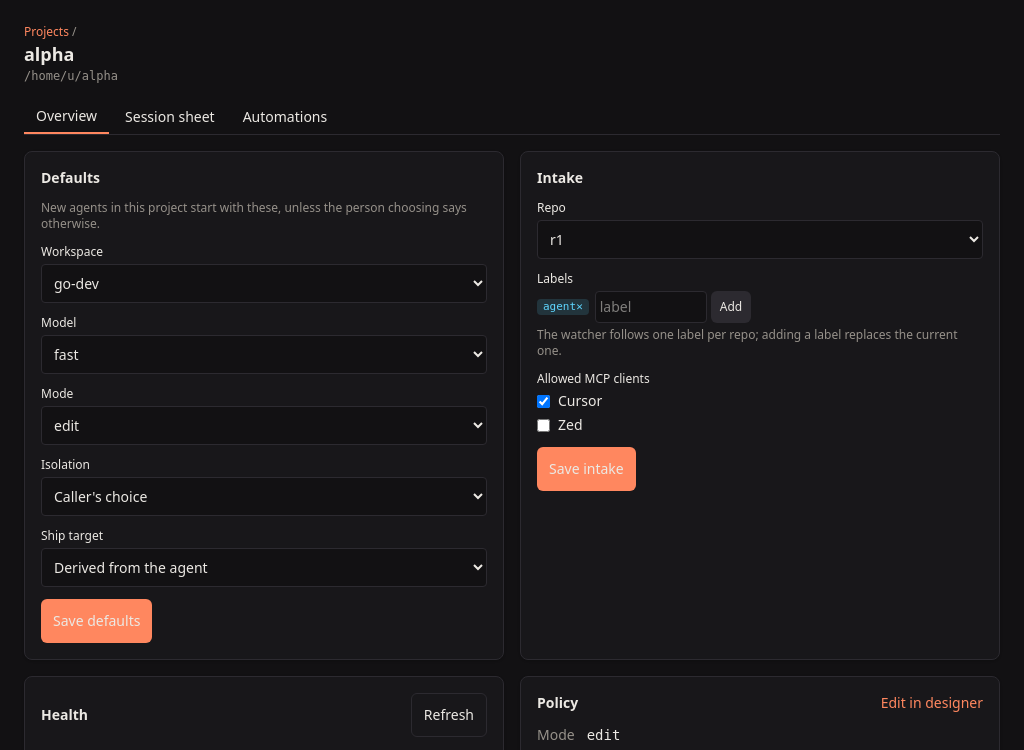
Test: Project overview › saves defaults with the right body, keeping intake and routing overrides
Step 1. Select "ci (repo)" in the dropdown labelled "Workspace" → (264, 284), box [41,264,487,303]
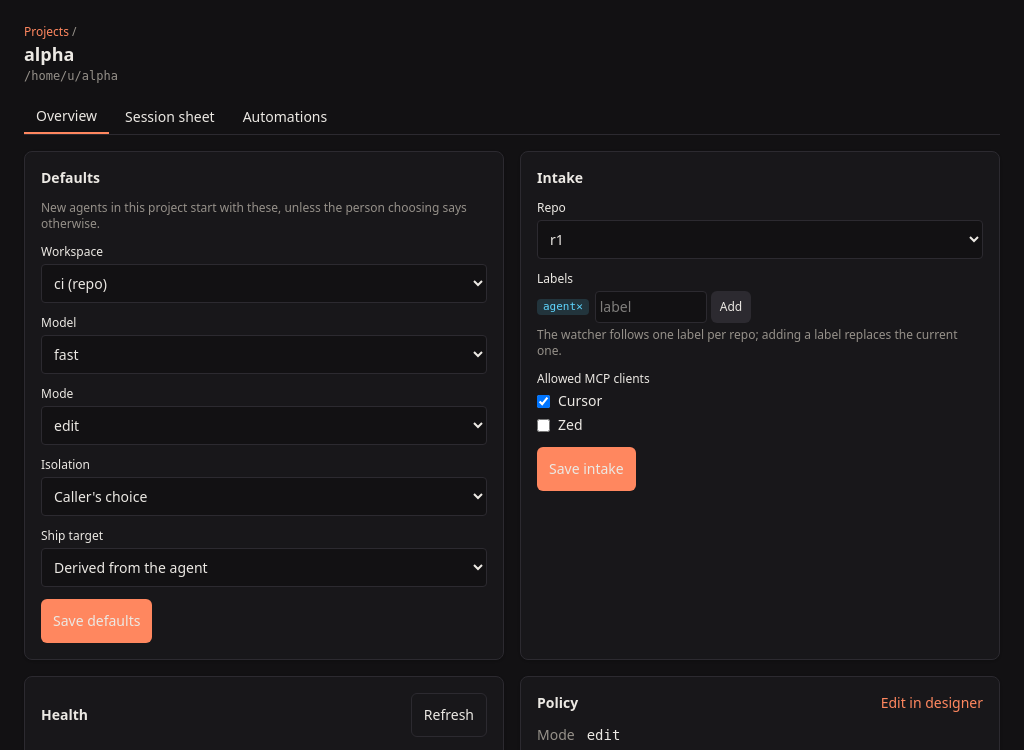
Step 2. Select "careful" in the dropdown named "Model profile" → (264, 354), box [41,335,487,374]
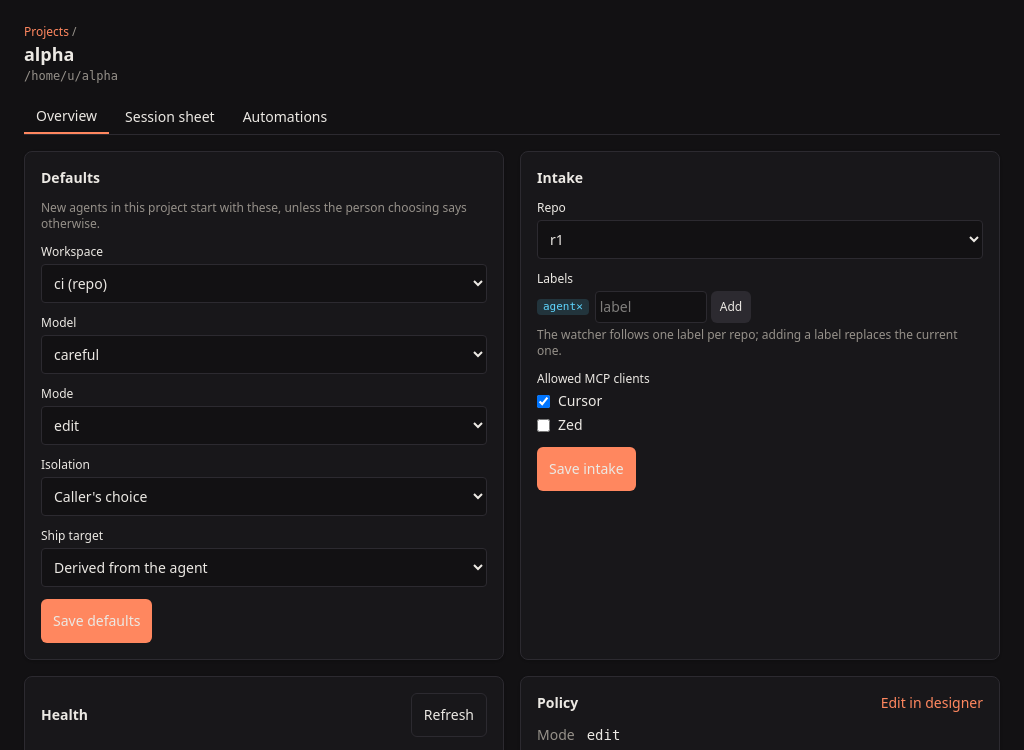
Step 3. Select "auto" in the dropdown labelled "Mode" → (264, 426), box [41,406,487,445]
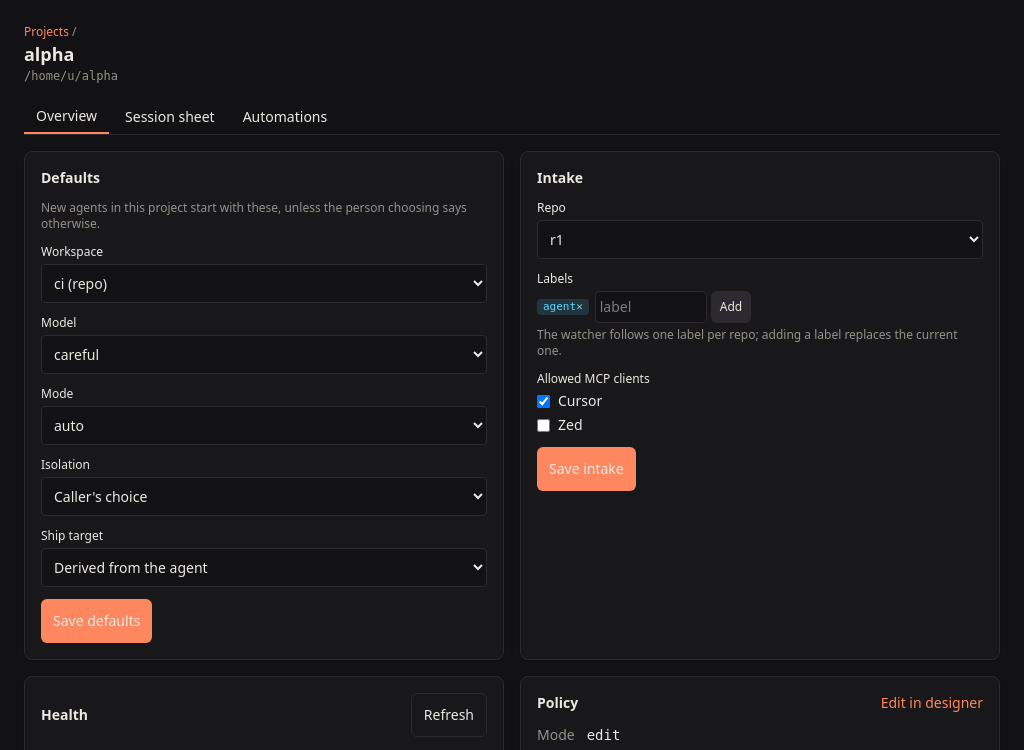
Step 4. Select "Isolated worktree" in the dropdown labelled "Isolation" → (264, 496), box [41,477,487,516]
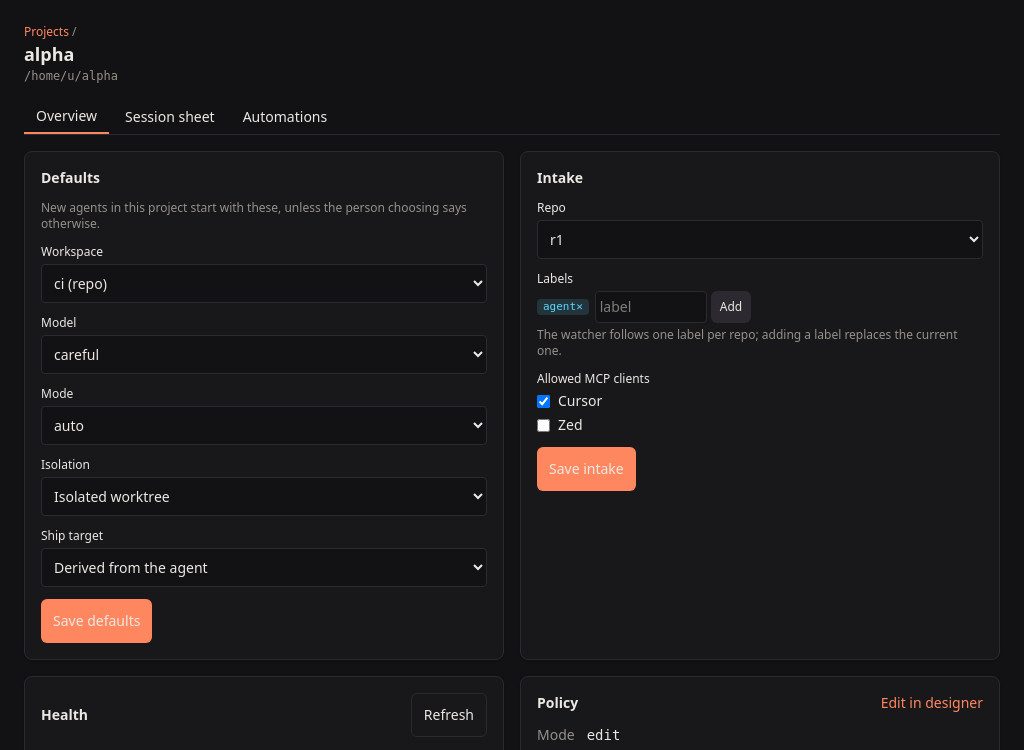
Step 5. Select "patch" in the dropdown labelled "Ship target" → (264, 568), box [41,548,487,587]
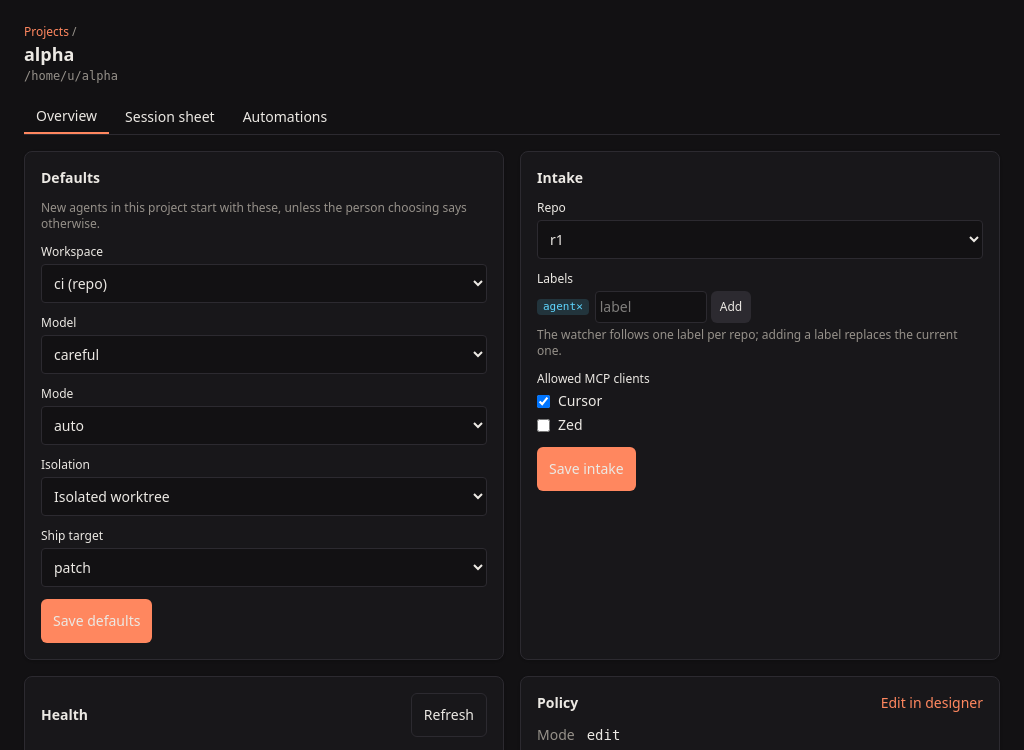
Step 6. Click the button "Save defaults" → click(97, 621), box [41,599,152,643]
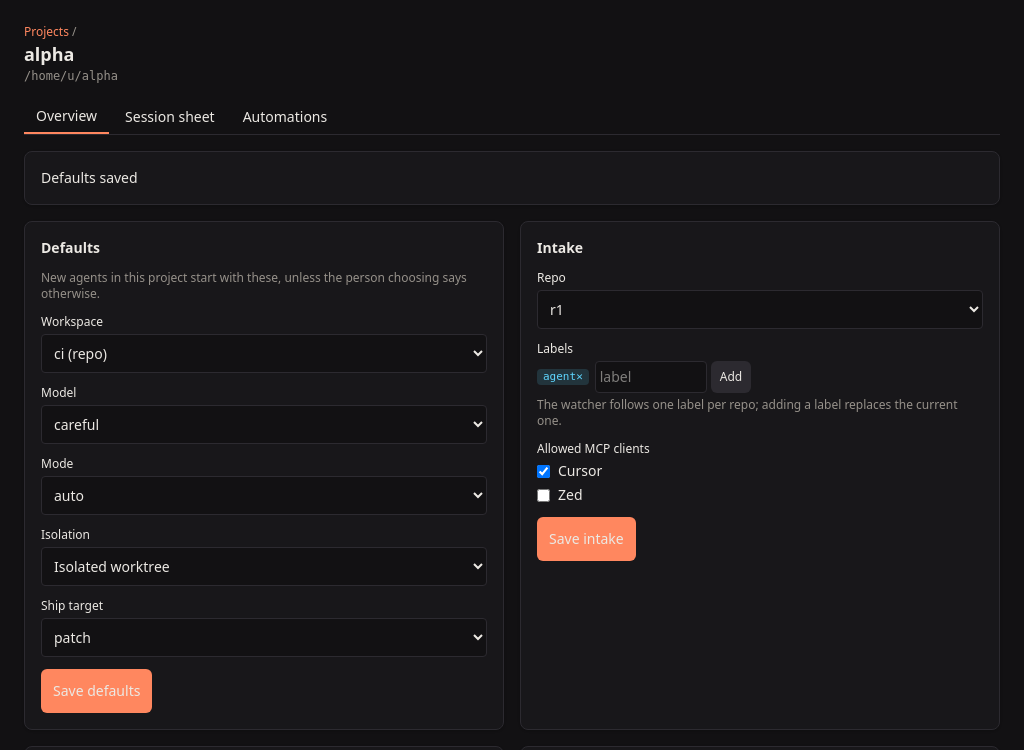
Check: the message reads "Defaults saved", box [41,168,138,187]
